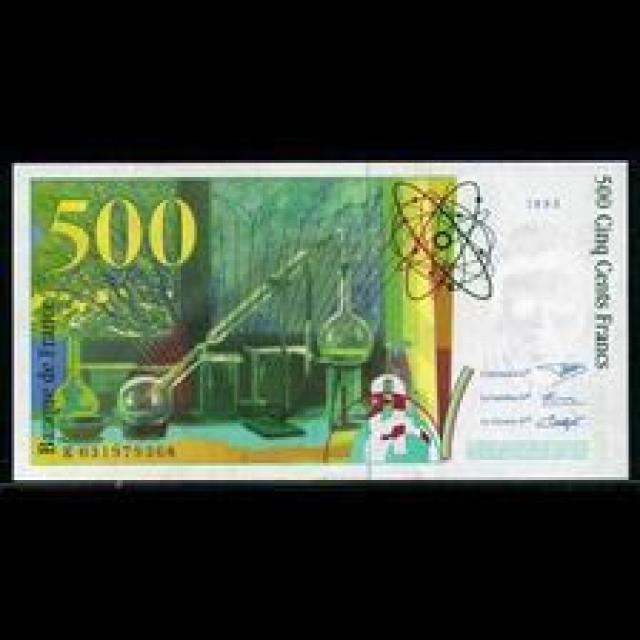banknote: (8, 160, 630, 478), (46, 190, 207, 278), (585, 212, 616, 308), (588, 169, 619, 212)
